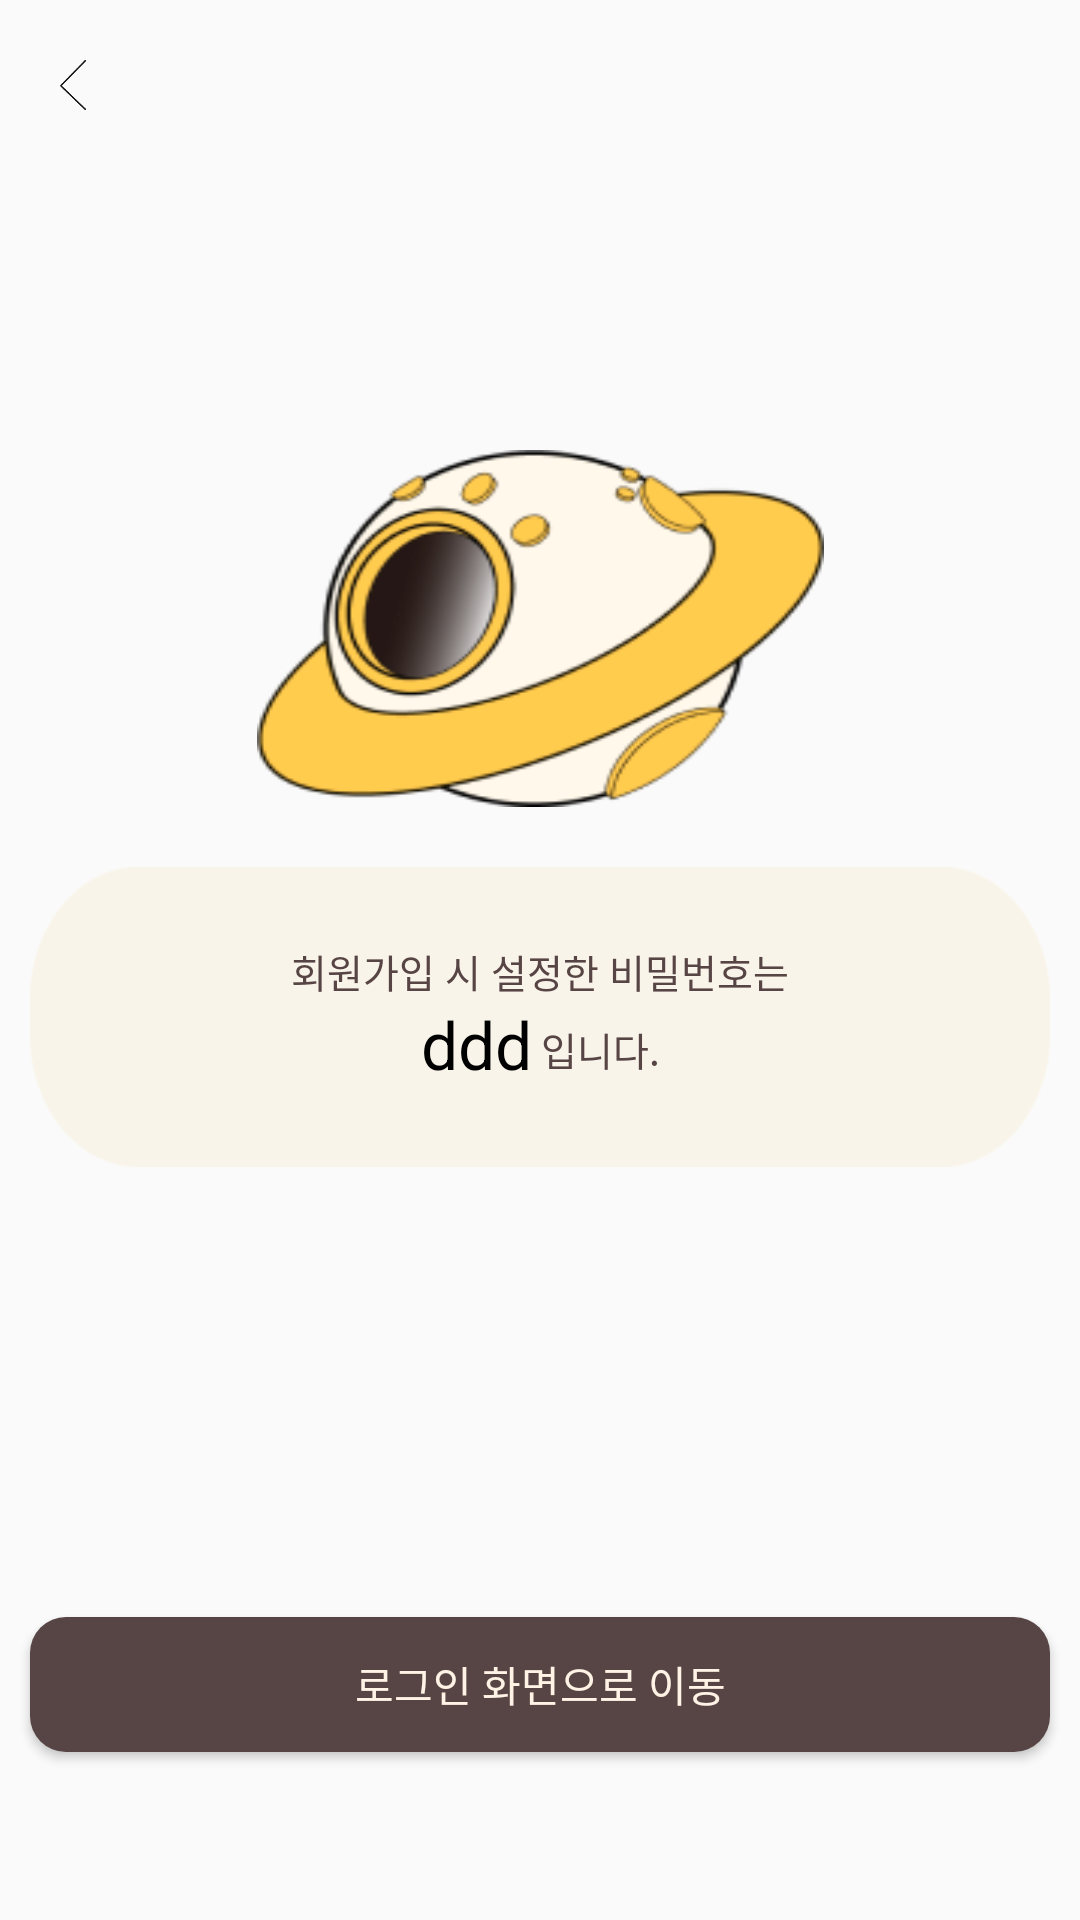

Icons on this 1080×1920 Android screen, each with its box as [x1,y1,x2,y2]:
backbtn: [60,60,86,110]
